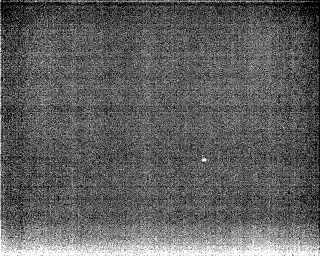AIRPLANE: (200, 155, 209, 165)
